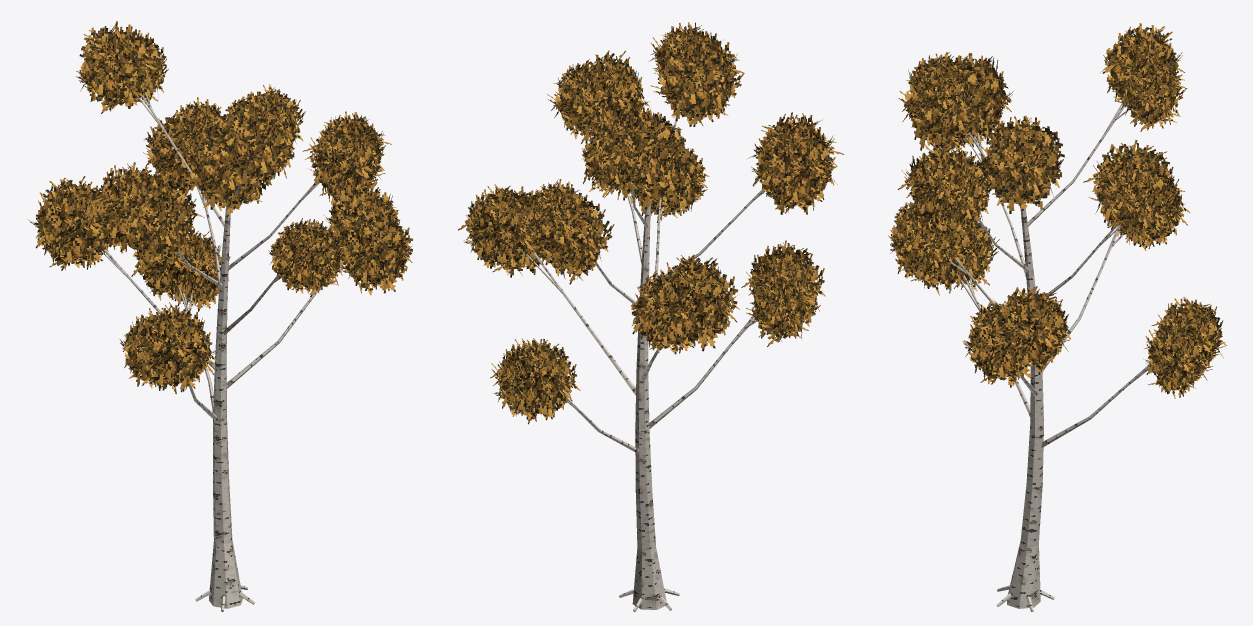
File: TREE_Birch_Autumn_A.glb
The picture shows the model from 3 angles, left to right: view 1: azimuth 30°, elevation 25°; view 2: azimuth 150°, elevation 25°; view 3: azimuth 270°, elevation 25°; orthographic projection.
Visible parts, largest first — view 1: TREE_Birch_Autumn_A__Card, TREE_Birch_Autumn_A__Bark; view 2: TREE_Birch_Autumn_A__Card, TREE_Birch_Autumn_A__Bark; view 3: TREE_Birch_Autumn_A__Card, TREE_Birch_Autumn_A__Bark.
Boxes of the visible parts, x1,y1,x2,y2 form: TREE_Birch_Autumn_A__Card: [27, 21, 412, 394]; TREE_Birch_Autumn_A__Bark: [99, 92, 347, 611]; TREE_Birch_Autumn_A__Card: [458, 22, 843, 424]; TREE_Birch_Autumn_A__Bark: [520, 100, 763, 611]; TREE_Birch_Autumn_A__Card: [888, 23, 1226, 398]; TREE_Birch_Autumn_A__Bark: [950, 101, 1150, 611].
Size of the model in its own units: 8.03 by 11.85 by 7.01.
3 materials, 3 textured.
